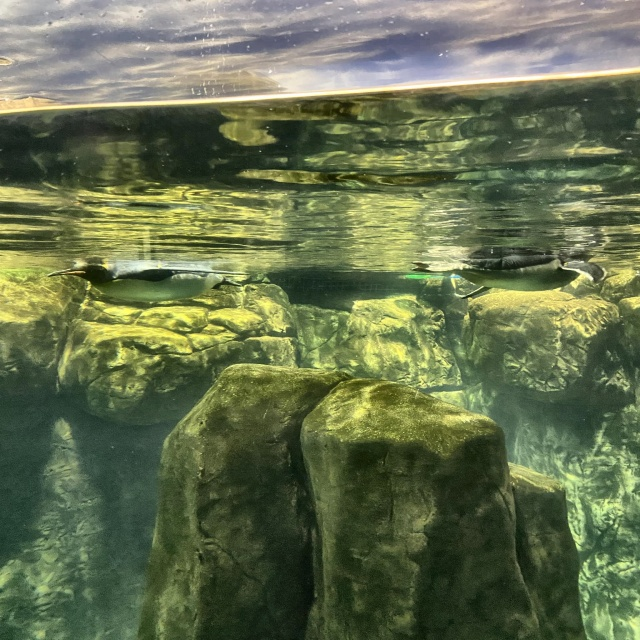starfish: (409, 251, 604, 300), (47, 261, 242, 302)
